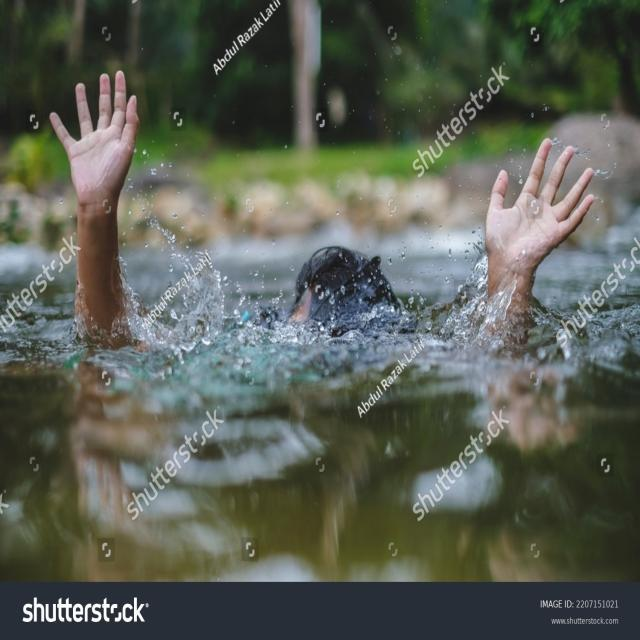Out of Water: (46, 66, 599, 362)
